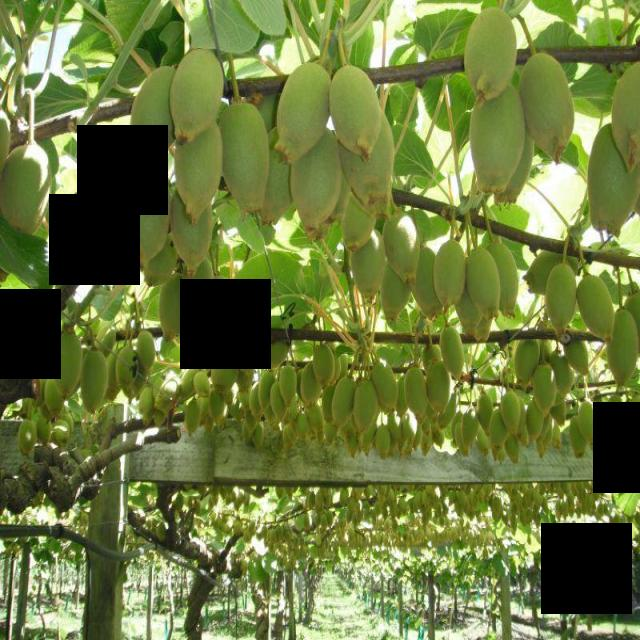kiwi: (218, 94, 274, 223), (519, 51, 581, 166), (275, 61, 338, 165), (584, 121, 640, 236), (463, 4, 521, 106), (469, 96, 529, 194), (170, 48, 227, 150), (328, 60, 386, 160), (2, 141, 60, 240), (127, 64, 181, 170), (334, 131, 401, 211), (172, 133, 224, 223), (128, 176, 172, 271), (289, 158, 339, 240), (380, 210, 426, 288), (610, 59, 640, 173), (496, 136, 541, 208), (578, 273, 620, 347), (522, 249, 579, 301), (484, 239, 521, 319), (173, 217, 220, 277), (350, 227, 386, 305), (547, 262, 581, 342), (607, 306, 640, 387), (468, 247, 503, 319), (435, 239, 469, 313), (379, 260, 414, 328), (411, 247, 443, 321), (82, 345, 112, 421), (54, 328, 84, 400), (208, 280, 238, 348), (337, 202, 377, 252), (183, 273, 217, 327), (157, 279, 184, 346), (372, 355, 401, 413), (425, 359, 454, 417), (440, 324, 468, 382), (355, 377, 381, 438), (513, 338, 543, 389), (331, 373, 357, 431), (184, 322, 214, 371), (212, 345, 240, 396), (116, 344, 142, 398), (533, 365, 560, 417), (404, 365, 429, 421), (144, 253, 180, 291), (563, 336, 593, 381), (234, 325, 258, 379), (262, 332, 292, 374), (312, 342, 336, 391), (299, 363, 325, 408), (575, 397, 601, 442), (500, 392, 524, 440), (135, 331, 159, 378), (2, 100, 14, 188), (605, 393, 626, 442), (269, 382, 291, 427), (400, 400, 420, 447), (555, 363, 577, 405), (279, 365, 300, 409), (42, 377, 64, 419), (475, 390, 497, 432), (489, 409, 511, 451), (17, 416, 39, 458), (418, 341, 447, 372), (460, 295, 481, 337), (589, 440, 614, 475), (375, 422, 395, 464), (182, 400, 204, 438), (626, 391, 640, 449), (207, 395, 233, 426), (568, 426, 589, 464), (528, 401, 545, 447), (460, 409, 480, 447), (160, 372, 183, 404), (179, 364, 197, 404), (258, 372, 276, 412), (250, 386, 268, 426), (623, 287, 640, 329), (451, 412, 468, 454), (138, 383, 158, 417), (193, 371, 215, 401), (280, 423, 298, 459), (417, 419, 437, 451), (551, 399, 572, 429), (506, 435, 525, 468), (308, 406, 326, 439), (475, 315, 495, 344), (332, 349, 349, 382), (390, 410, 406, 445), (549, 421, 567, 451), (298, 408, 312, 443), (39, 417, 54, 449), (539, 426, 552, 462), (54, 424, 72, 448), (254, 422, 265, 456), (239, 422, 254, 446), (152, 408, 168, 430)
